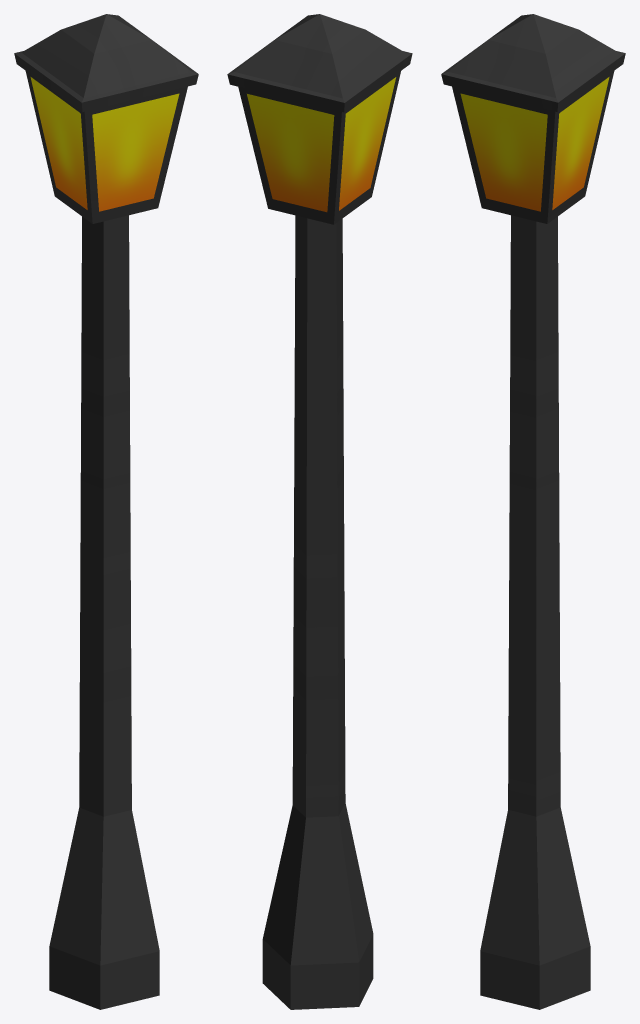
The model's file is SM_Street_Light_2.FBX.
The picture shows the model from 3 angles, left to right: view 1: azimuth 30°, elevation 25°; view 2: azimuth 150°, elevation 25°; view 3: azimuth 330°, elevation 25°; orthographic projection.
Parts seen in each view (by area): view 1: SM_Street_Light_2; view 2: SM_Street_Light_2; view 3: SM_Street_Light_2.
Part boxes in pixels (x1=…): SM_Street_Light_2: x1=14, y1=14, x2=198, y2=1009; SM_Street_Light_2: x1=227, y1=14, x2=412, y2=1009; SM_Street_Light_2: x1=441, y1=14, x2=625, y2=1009.
Size of what is drawn, in the model's own units: 67.9 by 67.9 by 538.
